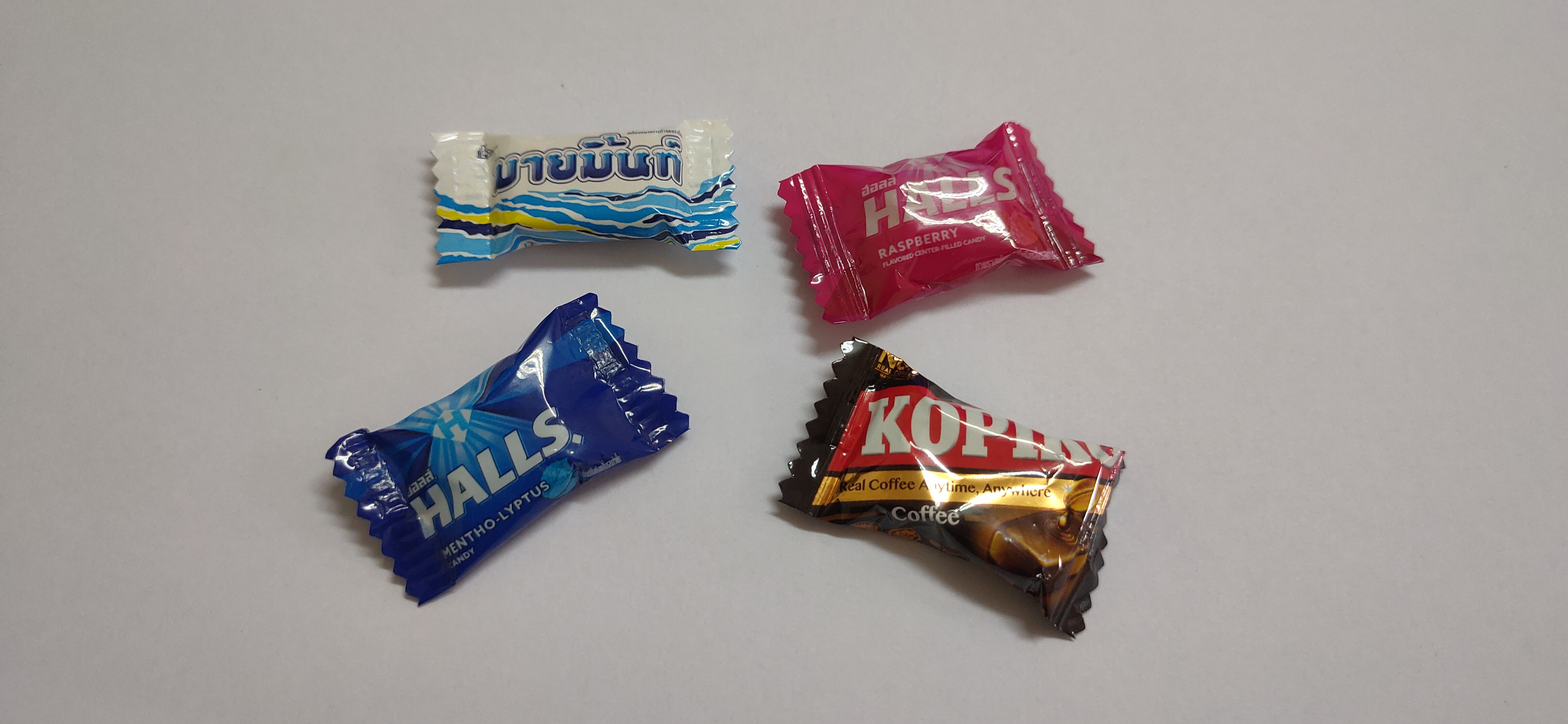plastic: (301, 277, 722, 660), (753, 323, 1168, 671), (759, 83, 1152, 388), (412, 81, 760, 298)
